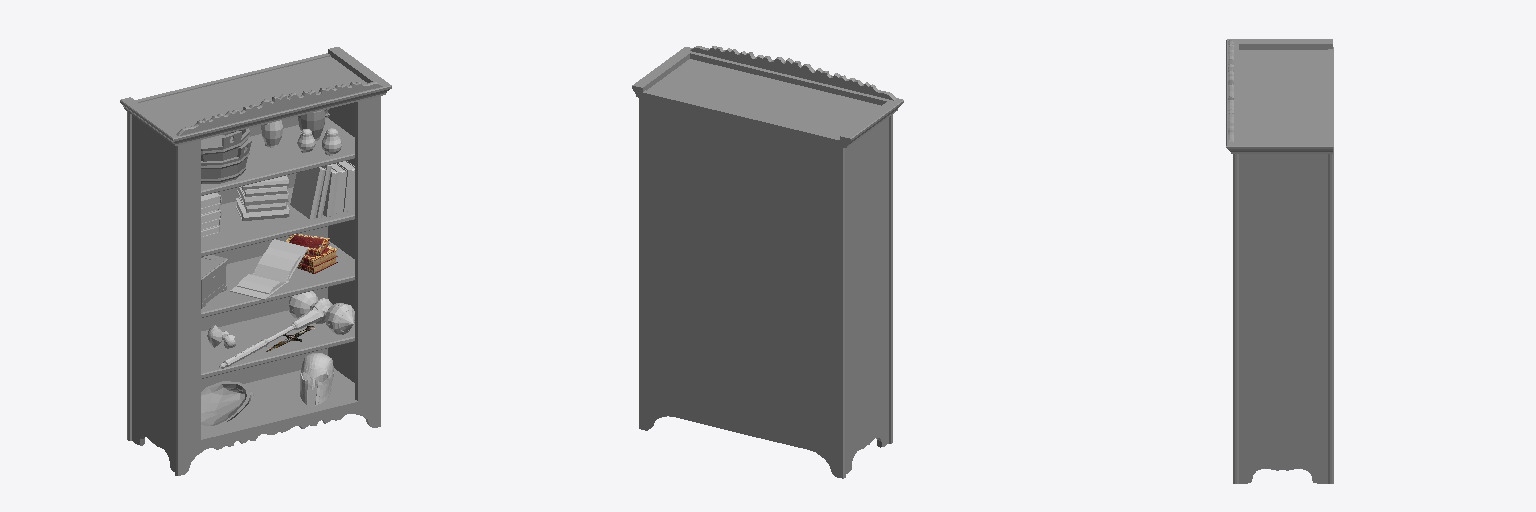
3 views of the same model, side by side, from view 1: azimuth 30°, elevation 25°; view 2: azimuth 150°, elevation 25°; view 3: azimuth 270°, elevation 25° (orthographic).
Bounding box in the file's own units: 1.13 × 1.76 × 0.4791.
Materials: 24 (3 with a texture image).